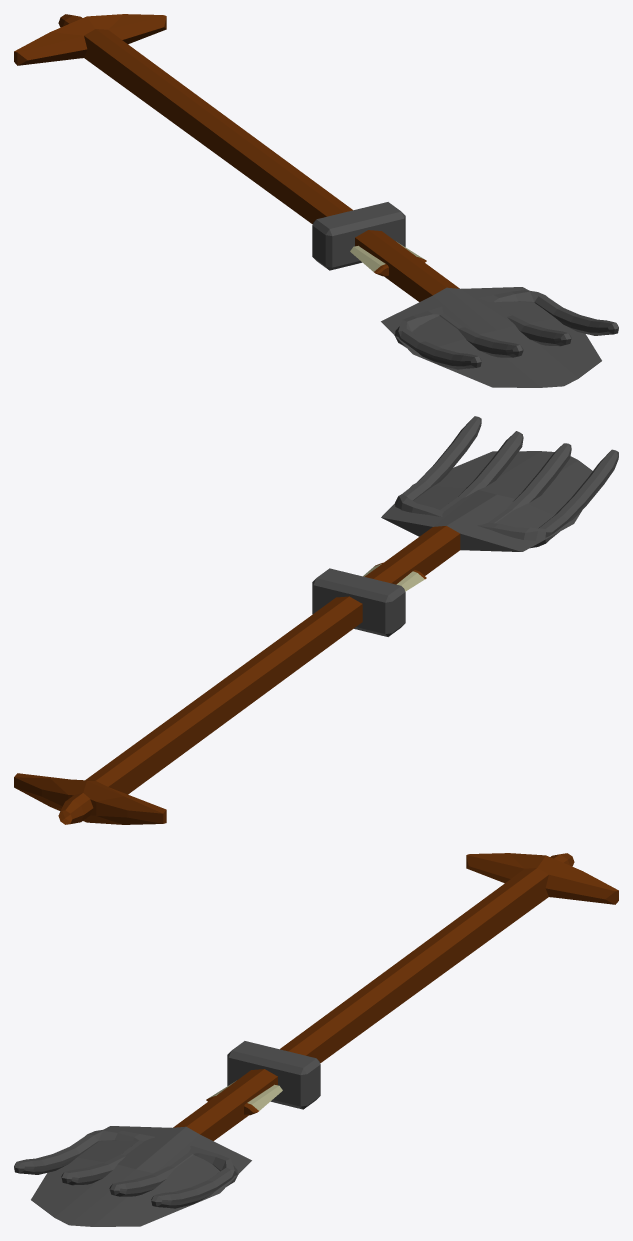
File: shovel.fbx
3 views of the same model, one above another, from view 1: azimuth 30°, elevation 25°; view 2: azimuth 150°, elevation 25°; view 3: azimuth 330°, elevation 25° (orthographic).
Visible parts, largest first — view 1: Shovel, Pitchfork, Hammer, Brush; view 2: Shovel, Pitchfork, Hammer; view 3: Shovel, Pitchfork, Hammer, Brush.
Part boxes in pixels (x1,y1,x2,y2): Shovel: [14, 14, 601, 387]; Pitchfork: [58, 14, 618, 369]; Hammer: [312, 202, 405, 270]; Brush: [350, 241, 426, 276]; Shovel: [14, 451, 592, 824]; Pitchfork: [58, 416, 618, 824]; Hammer: [312, 568, 405, 636]; Shovel: [31, 853, 618, 1226]; Pitchfork: [14, 853, 574, 1208]; Hammer: [227, 1041, 320, 1109]; Brush: [206, 1080, 282, 1115].
Bounding box in the file's own units: 36.61 × 11.65 × 196.
